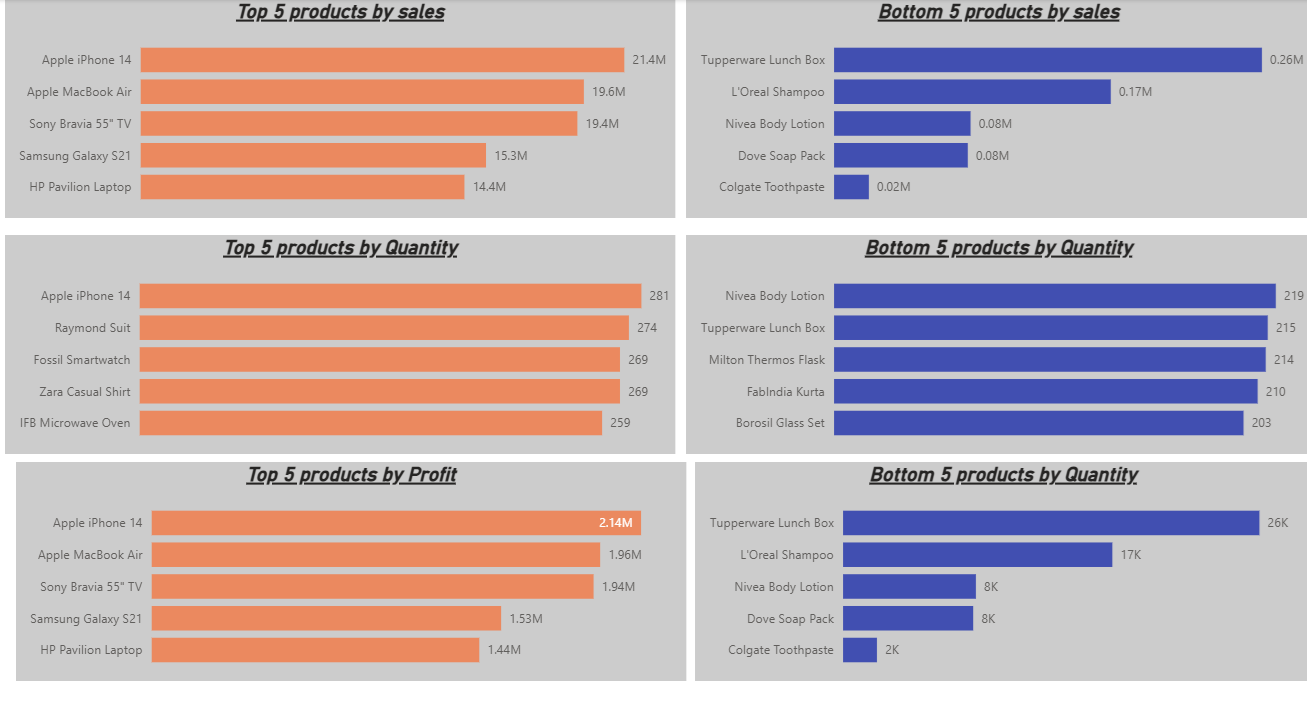

Layout of this report page (visuals, bound fields, positions):
{"tool":"powerbi","page":{"name":"top/Bottom 5 requirements","canvas":[1280,720],"ordinal":0},"visuals":[{"type":"barChart","title":"Top 5 products by sales","fields":{"Y":["Sum(Fact Table.Net Sales  )"],"Category":["Dim Product.Product Name"]},"box":[9.7,0,651.7,213],"z":0},{"type":"barChart","title":"Bottom 5 products by sales","fields":{"Y":["Sum(Fact Table.Net Sales  )"],"Category":["Dim Product.Product Name"]},"box":[672.1,0,607.9,213],"z":1000},{"type":"barChart","title":"Top 5 products by Quantity","fields":{"Y":["Sum(Fact Table.Units Sold)"],"Category":["Dim Product.Product Name"]},"box":[9.7,229.5,651.7,213],"z":2000},{"type":"barChart","title":"Bottom 5 products by Quantity","fields":{"Y":["Sum(Fact Table.Units Sold)"],"Category":["Dim Product.Product Name"]},"box":[672.1,229.5,607.9,213],"z":3000},{"type":"barChart","title":"Top 5 products by Profit ","fields":{"Y":["Sum(Fact Table.Profit)"],"Category":["Dim Product.Product Name"]},"box":[20.4,450.3,651.7,213],"z":4000},{"type":"barChart","title":"Bottom 5 products by Quantity","fields":{"Y":["Sum(Fact Table.Profit)"],"Category":["Dim Product.Product Name"]},"box":[680.9,450.3,599.1,213],"z":5000}]}

Visuals, with their boxes in screenshot pixels (x1, y1, x2, y2), scaled from the page's 1280x720 canvas onto the 1307x723 screenshot:
"Top 5 products by sales" barChart: (left=10, top=0, right=675, bottom=214)
"Bottom 5 products by sales" barChart: (left=686, top=0, right=1306, bottom=214)
"Top 5 products by Quantity" barChart: (left=10, top=230, right=675, bottom=444)
"Bottom 5 products by Quantity" barChart: (left=686, top=230, right=1306, bottom=444)
"Top 5 products by Profit " barChart: (left=21, top=452, right=686, bottom=666)
"Bottom 5 products by Quantity" barChart: (left=695, top=452, right=1306, bottom=666)
